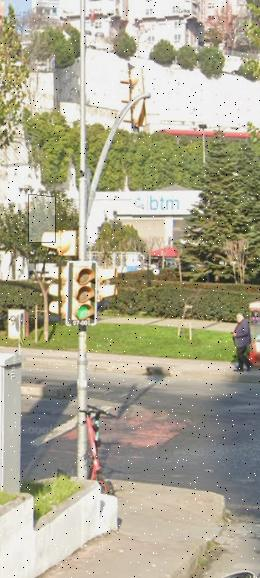greenlight: (68, 257, 96, 329)
